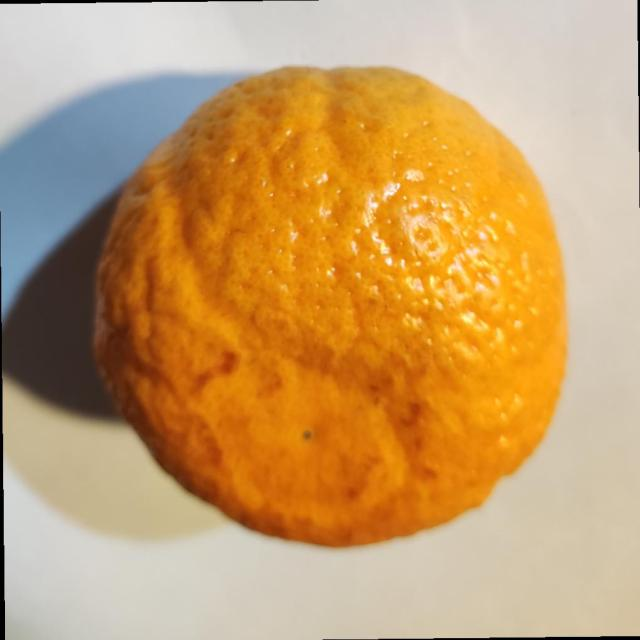fresh orange: (91, 63, 569, 548)
